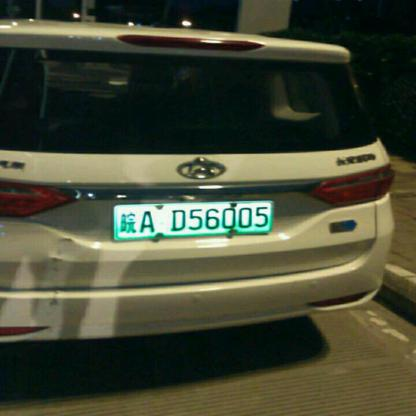lp: (115, 201, 274, 236)
